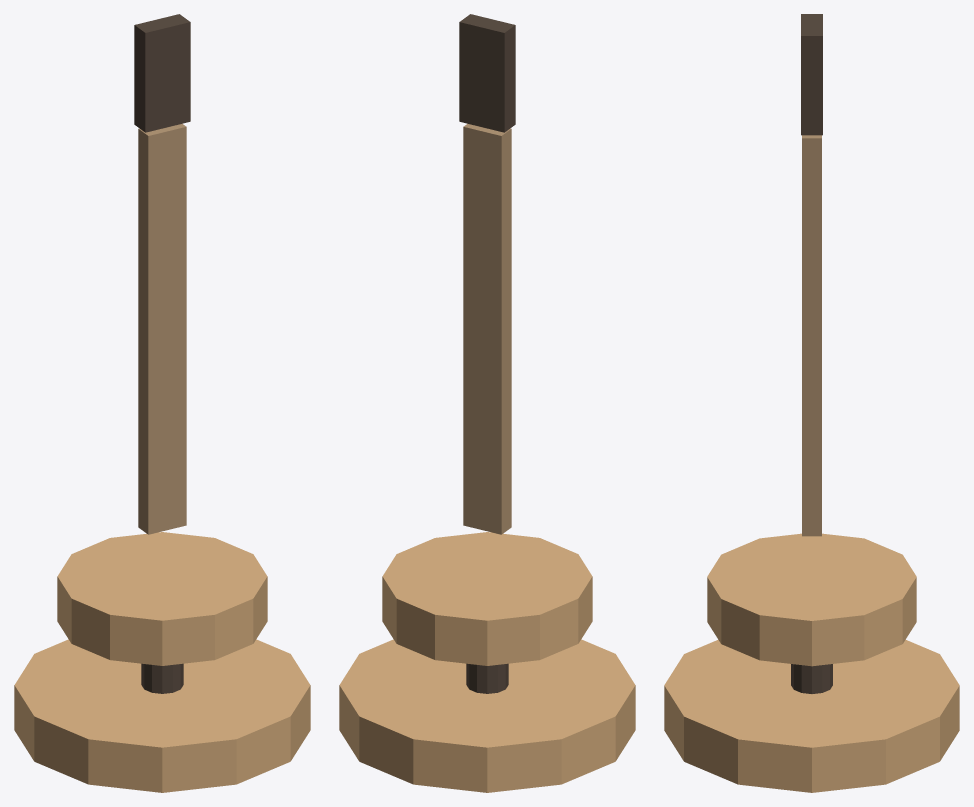
File: guitar.glb
3 renders of one model, left to right at view 1: azimuth 30°, elevation 25°; view 2: azimuth 150°, elevation 25°; view 3: azimuth 270°, elevation 25°, orthographic.
Parts seen in each view (by area): view 1: guitar; view 2: guitar; view 3: guitar.
Part boxes in pixels (x1,y1,x2,y2): guitar: (14,14,310,792); guitar: (339,14,635,792); guitar: (664,14,959,792).
Bounding box in the file's own units: 0.296 × 0.819 × 0.296.
